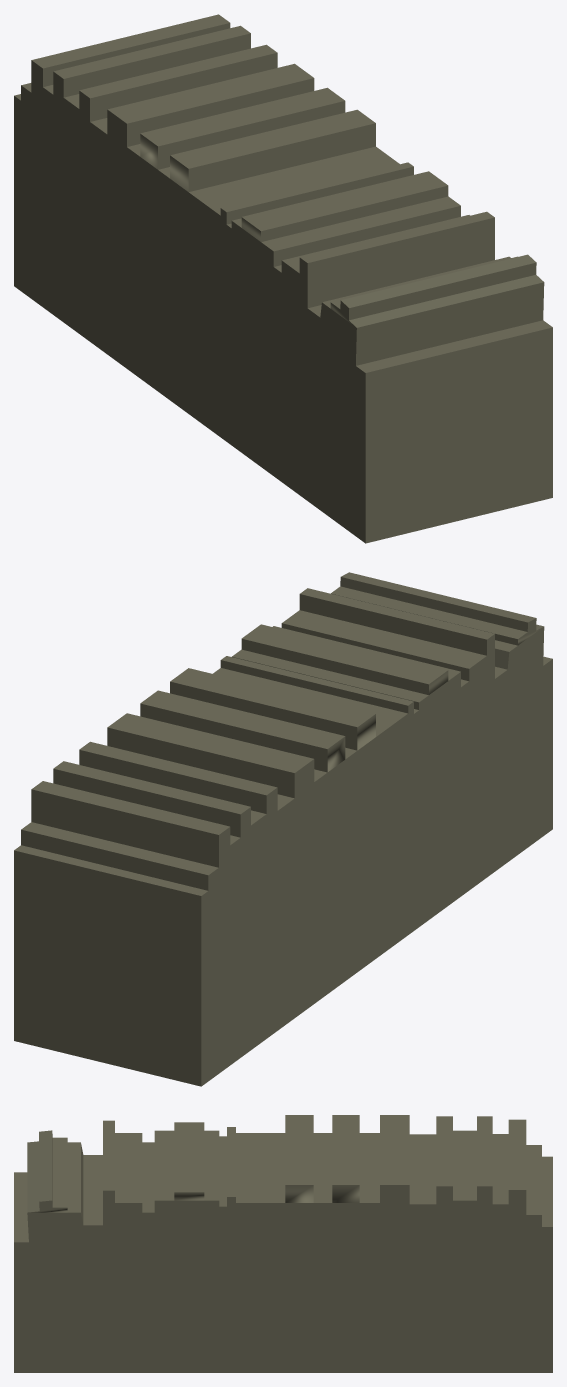
The picture shows the model from 3 angles, top to bottom: view 1: azimuth 30°, elevation 25°; view 2: azimuth 150°, elevation 25°; view 3: azimuth 270°, elevation 25°; orthographic projection. The views are drawn at different scales.
Visible parts, largest first — view 1: Mesh1_Model.001; view 2: Mesh1_Model.001; view 3: Mesh1_Model.001.
Part boxes in pixels (x1,y1,x2,y2): Mesh1_Model.001: (14,14,552,543); Mesh1_Model.001: (14,572,552,1086); Mesh1_Model.001: (14,1115,552,1372).
Size of the model in its own units: 0.8 by 1 by 2.6.
